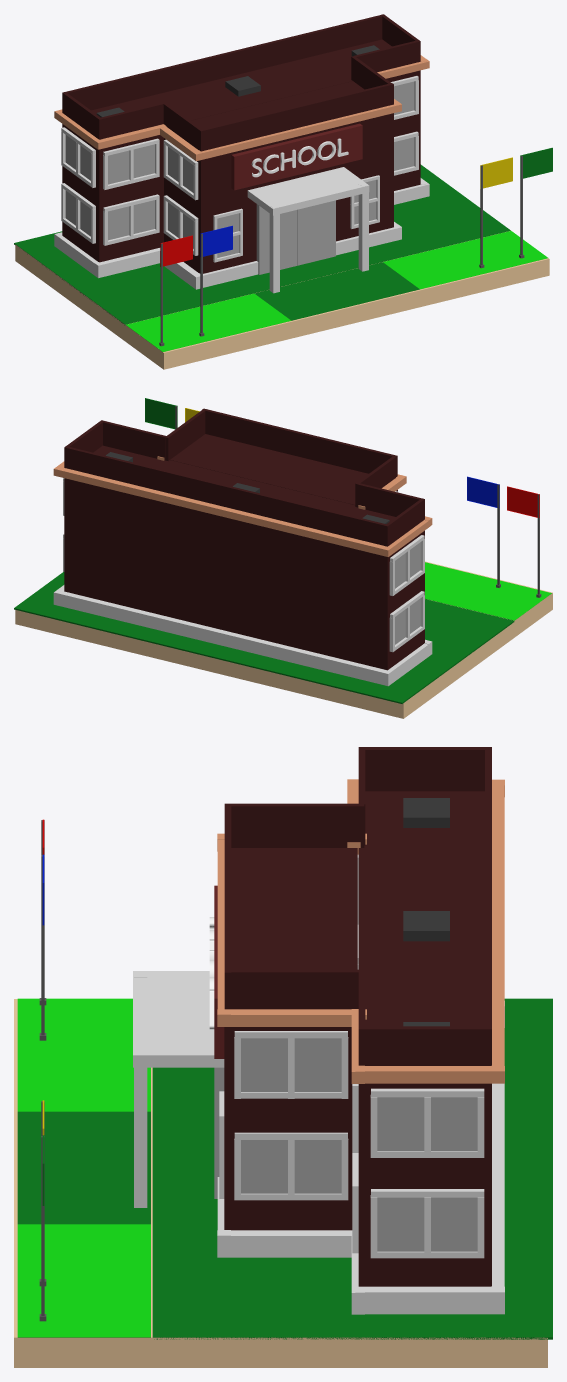
The model's file is House.fbx.
3 renders of one model, top to bottom at view 1: azimuth 30°, elevation 25°; view 2: azimuth 150°, elevation 25°; view 3: azimuth 270°, elevation 25°, orthographic. The views are drawn at different scales.
Visible parts, largest first — view 1: Building, UpperBorder, BldGround, Land, Ground, GateFrame, Entrance, LowerBorder.001, Sclbrd, LowerBorder, GateRight, GateLeft (+23 smaller); view 2: Building, UpperBorder, BldGround, Land, LowerBorder.001, LowerBorder, Ground, WindowFrame.004, WindowFrame.005, Flag_1_cloth, Flag_1_cloth.001, Flag_1_cloth.003 (+3 smaller); view 3: Building, BldGround, Ground, UpperBorder, Land, Entrance, LowerBorder.001, LowerBorder, GateFrame, WindowGlass.002, WindowGlass.003, WindowGlass (+8 smaller).
Boxes of the visible parts, box(x1,y1,x2,y2) form: Building: box(62, 39, 420, 273); UpperBorder: box(62, 14, 420, 151); BldGround: box(14, 164, 510, 325); Land: box(15, 230, 549, 369); Ground: box(126, 231, 547, 351); GateFrame: box(247, 167, 369, 293); Entrance: box(254, 262, 419, 320); LowerBorder.001: box(54, 178, 429, 289); Sclbrd: box(231, 123, 362, 190); LowerBorder: box(54, 55, 429, 161); GateRight: box(297, 200, 335, 265); GateLeft: box(256, 204, 297, 274); Building: box(64, 434, 424, 670); UpperBorder: box(64, 408, 424, 546); BldGround: box(14, 572, 514, 703); Land: box(15, 561, 552, 718); LowerBorder.001: box(53, 585, 432, 686); LowerBorder: box(53, 456, 432, 556); Ground: box(425, 562, 551, 620); WindowFrame.004: box(389, 591, 424, 652); WindowFrame.005: box(389, 535, 424, 595); Flag_1_cloth: box(507, 486, 539, 517); Flag_1_cloth.001: box(467, 476, 499, 508); Flag_1_cloth.003: box(145, 398, 177, 429); Building: box(224, 791, 491, 1286); BldGround: box(152, 998, 552, 1339); Ground: box(17, 998, 150, 1337); UpperBorder: box(224, 747, 491, 1065); Land: box(14, 999, 547, 1367); Entrance: box(17, 1111, 150, 1224); LowerBorder.001: box(217, 1001, 504, 1314); LowerBorder: box(217, 779, 504, 1083); GateFrame: box(133, 971, 224, 1207); WindowGlass.002: box(377, 1197, 477, 1251); WindowGlass.003: box(377, 1097, 477, 1151); WindowGlass: box(241, 1038, 341, 1091).
Size of the model in its own units: 12356 by 5122 by 8075.
